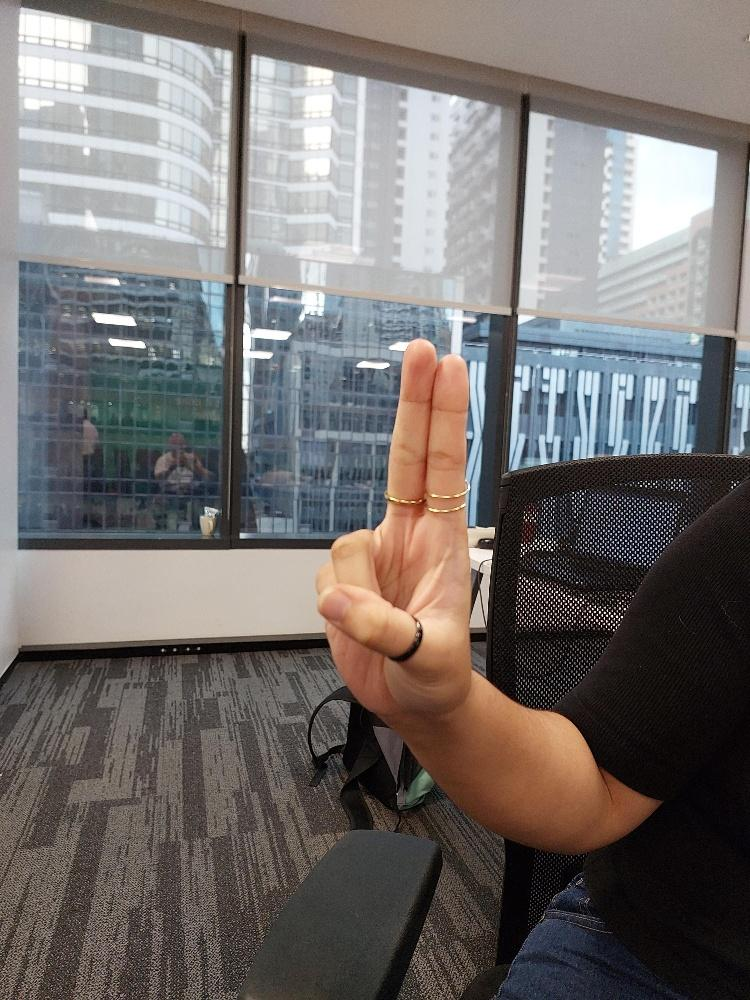u: (310, 335, 475, 729)
